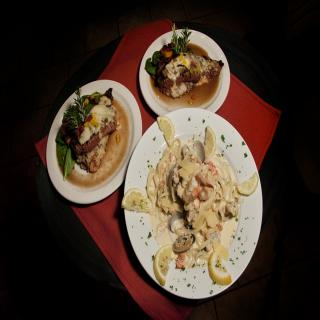Pasta: (143, 130, 250, 276)
